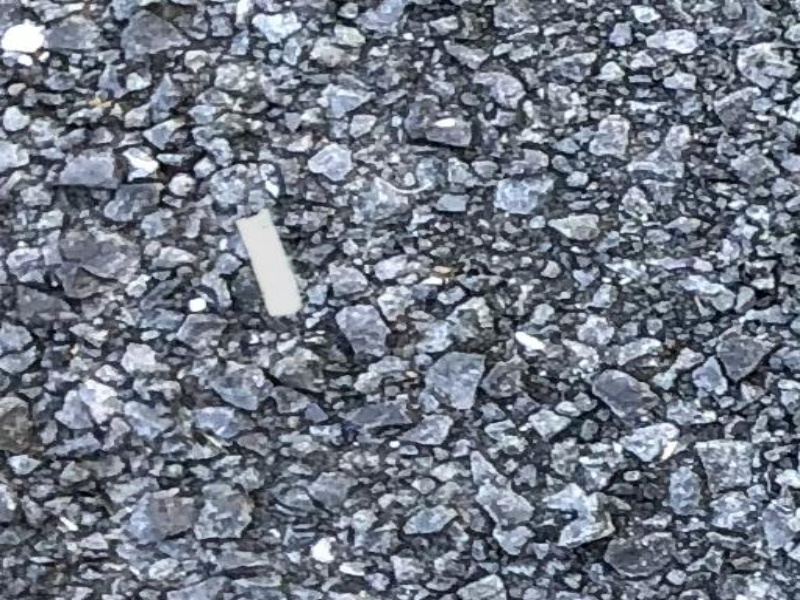cig: (227, 204, 313, 322)
